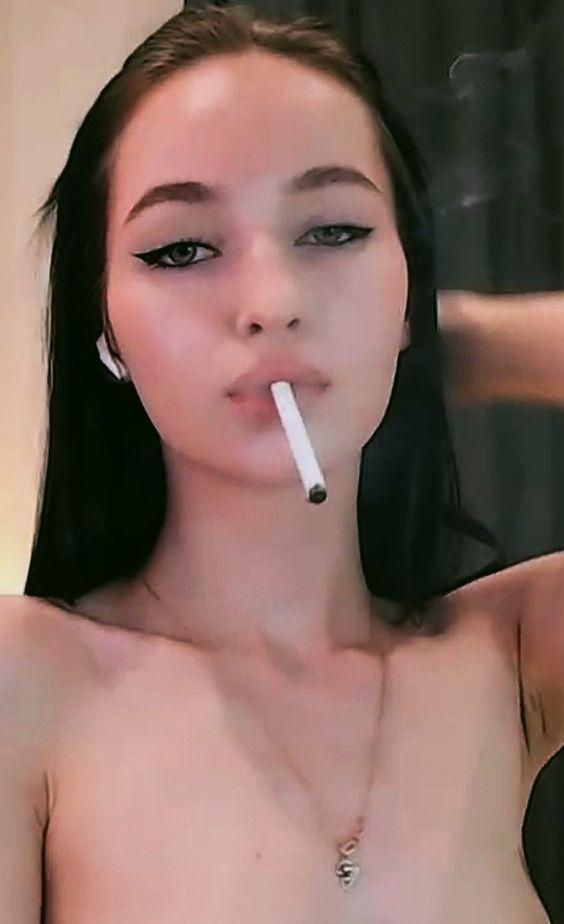cigarette: (270, 380, 328, 506)
